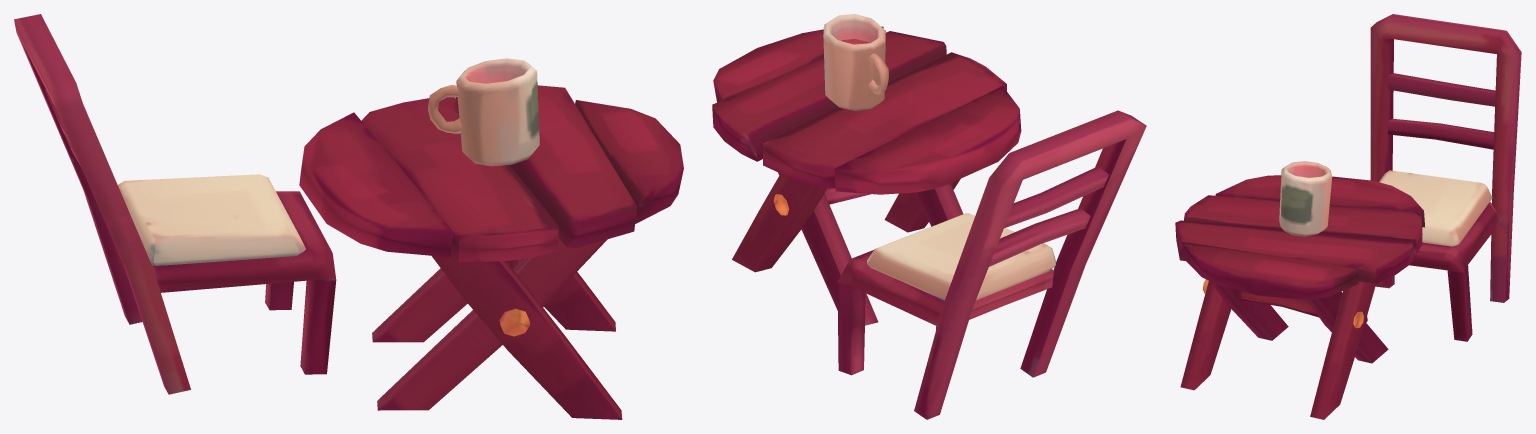
File: chair.glb
3 views of the same model, side by side, from view 1: azimuth 30°, elevation 25°; view 2: azimuth 150°, elevation 25°; view 3: azimuth 270°, elevation 25° (orthographic). The views are drawn at different scales.
Visible parts, largest first — view 1: polySurface55; view 2: polySurface55; view 3: polySurface55.
Boxes of the visible parts, <box> form: polySurface55: <box>14,14,683,419</box>; polySurface55: <box>712,14,1146,419</box>; polySurface55: <box>1175,14,1521,419</box>.
Size of the model in its own units: 0.6952 by 0.3998 by 0.5397.
1 material, 1 textured.
